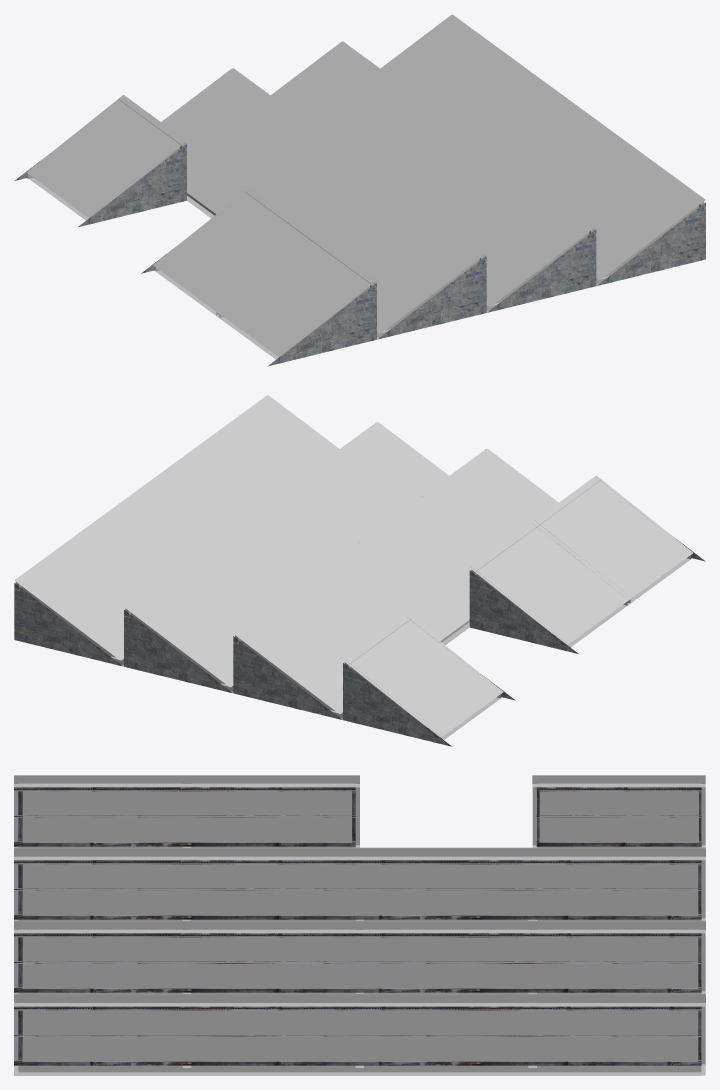
The model's file is factory_roof_02a.DAE.
3 views of the same model, one above another, from view 1: azimuth 30°, elevation 25°; view 2: azimuth 150°, elevation 25°; view 3: azimuth 270°, elevation 25° (orthographic). The views are drawn at different scales.
Visible parts, largest first — view 1: Box336, Object163, Object162, Object161; view 2: Box336, Object163, Object162, Object161; view 3: Plane006, Object161, Box337, Box336, Object163.
Part boxes in pixels (x1,y1,x2,y2): Box336: [161, 15, 704, 333]; Object163: [26, 14, 705, 356]; Object162: [14, 143, 705, 366]; Object161: [26, 86, 704, 359]; Box336: [15, 395, 558, 713]; Object163: [14, 395, 692, 737]; Object162: [14, 536, 705, 746]; Object161: [15, 478, 691, 739]; Plane006: [22, 790, 698, 1061]; Object161: [14, 775, 705, 1075]; Box337: [14, 787, 701, 1065]; Box336: [14, 847, 705, 994]; Object163: [14, 775, 705, 994].
Bounding box in the file's own units: 16 × 2.08 × 16.01.
